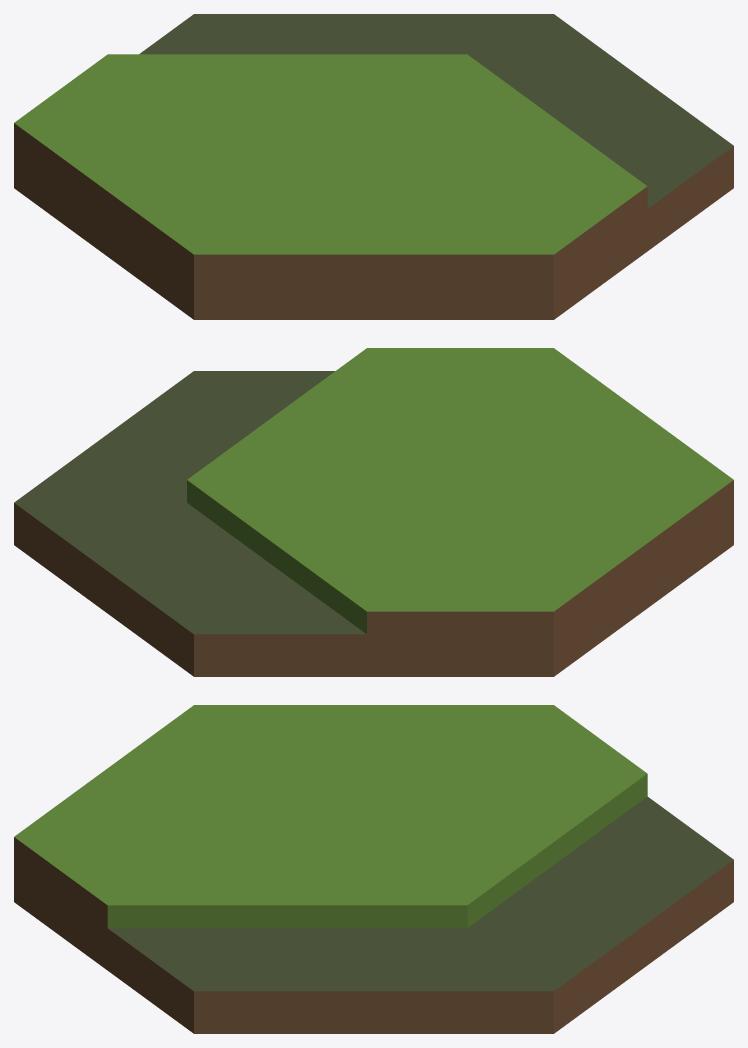
The model's file is tile_swamp_corner.glb.
3 renders of one model, top to bottom at view 1: azimuth 30°, elevation 25°; view 2: azimuth 150°, elevation 25°; view 3: azimuth 270°, elevation 25°, orthographic.
Parts seen in each view (by area): view 1: tile_swamp_corner; view 2: tile_swamp_corner; view 3: tile_swamp_corner.
Boxes of the visible parts, <box> form: tile_swamp_corner: <box>14,14,733,319</box>; tile_swamp_corner: <box>14,348,733,676</box>; tile_swamp_corner: <box>14,705,733,1033</box>.
Bounding box in the file's own units: 1.73 × 0.2 × 2.
Materials: 1 (1 with a texture image).
